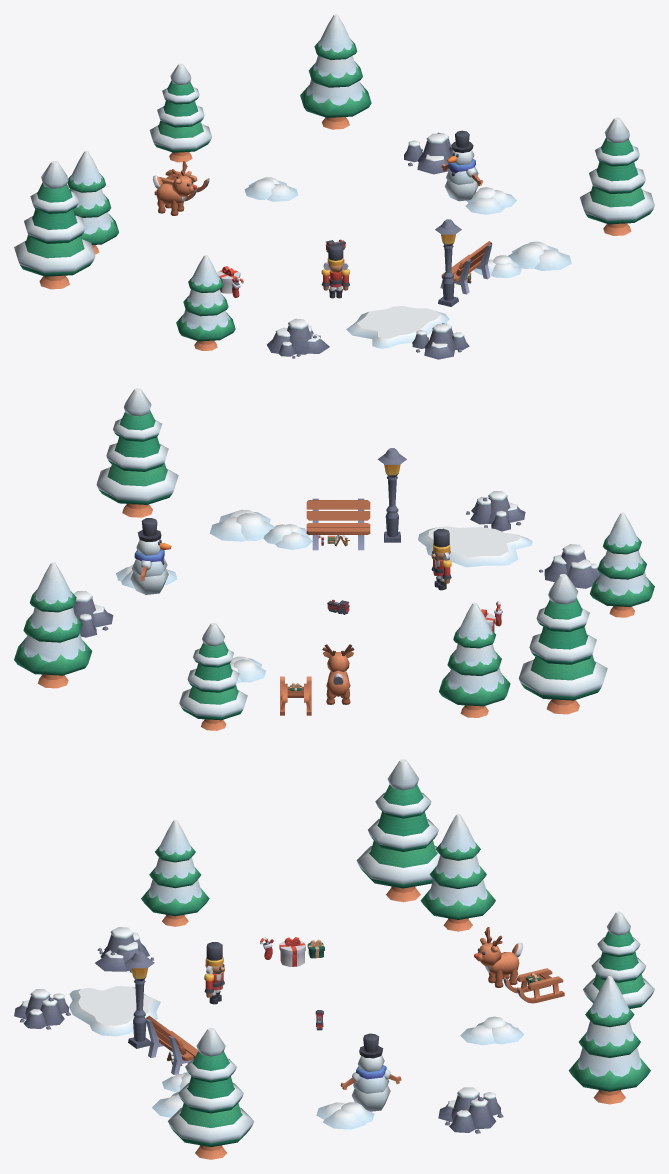
Rendered from street.glb.
3 renders of one model, top to bottom at view 1: azimuth 30°, elevation 25°; view 2: azimuth 150°, elevation 25°; view 3: azimuth 270°, elevation 25°, orthographic. The views are drawn at different scales.
Visible parts, largest first — view 1: K_tree-snow-b.001, K_tree-snow-b.003, K_tree-snow-a.002, K_tree-snow-b.002, K_tree-snow-a.003, K_tree-snow-a.001, K_snow-flat.001, snowman_body, K_rocks-medium.001, K_rocks-small.001, K_rocks-small.002, K_snow-pile.003 (+7 smaller); view 2: K_tree-snow-b.001, K_tree-snow-b.003, K_tree-snow-a.002, K_tree-snow-a.001, K_tree-snow-b.002, K_tree-snow-a.003, K_snow-flat.001, K_bench.001, snowman_body, K_rocks-medium.001, K_snow-pile.003, K_rocks-small.002 (+7 smaller); view 3: K_tree-snow-b.001, K_tree-snow-b.003, K_tree-snow-a.002, K_tree-snow-a.001, K_tree-snow-a.003, K_tree-snow-b.002, K_snow-flat.001, snowman_body, K_rocks-small.001, K_rocks-small.002, deer_body, K_rocks-medium.001 (+6 smaller).
Part boxes in pixels (bbox=[...]): K_tree-snow-b.001: bbox=[14, 161, 95, 289]; K_tree-snow-b.003: bbox=[580, 117, 654, 235]; K_tree-snow-a.002: bbox=[300, 14, 371, 129]; K_tree-snow-b.002: bbox=[149, 63, 211, 162]; K_tree-snow-a.003: bbox=[176, 255, 235, 350]; K_tree-snow-a.001: bbox=[67, 150, 118, 254]; K_snow-flat.001: bbox=[346, 306, 449, 348]; snowman_body: bbox=[441, 130, 482, 201]; K_rocks-medium.001: bbox=[267, 318, 329, 358]; K_rocks-small.001: bbox=[404, 132, 453, 174]; K_rocks-small.002: bbox=[412, 323, 469, 359]; K_snow-pile.003: bbox=[508, 241, 571, 270]; K_tree-snow-b.001: bbox=[518, 574, 607, 714]; K_tree-snow-b.003: bbox=[96, 388, 178, 517]; K_tree-snow-a.002: bbox=[14, 562, 91, 688]; K_tree-snow-a.001: bbox=[439, 602, 510, 717]; K_tree-snow-b.002: bbox=[179, 623, 247, 730]; K_tree-snow-a.003: bbox=[590, 512, 654, 617]; K_snow-flat.001: bbox=[418, 526, 532, 567]; K_bench.001: bbox=[306, 498, 370, 550]; snowman_body: bbox=[130, 518, 171, 594]; K_rocks-medium.001: bbox=[539, 544, 600, 588]; K_snow-pile.003: bbox=[209, 509, 274, 541]; K_rocks-small.002: bbox=[466, 491, 525, 531]; K_tree-snow-b.001: bbox=[356, 759, 439, 902]; K_tree-snow-b.003: bbox=[168, 1027, 254, 1159]; K_tree-snow-a.002: bbox=[568, 976, 650, 1104]; K_tree-snow-a.001: bbox=[420, 814, 495, 931]; K_tree-snow-a.003: bbox=[141, 820, 209, 926]; K_tree-snow-b.002: bbox=[583, 911, 654, 1008]; K_snow-flat.001: bbox=[69, 986, 160, 1036]; snowman_body: bbox=[340, 1033, 401, 1111]; K_rocks-small.001: bbox=[438, 1087, 503, 1133]; K_rocks-small.002: bbox=[14, 989, 70, 1029]; deer_body: bbox=[474, 927, 523, 987]; K_rocks-medium.001: bbox=[95, 927, 153, 972].
Size of the model in its own units: 12.14 by 2.57 by 11.1.
25 materials, 25 textured.
